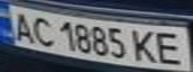1: (54, 18, 75, 52)
5: (106, 25, 130, 61)
8: (72, 20, 93, 55), (90, 24, 109, 57)
A: (6, 9, 39, 43)
C: (27, 14, 57, 47)
E: (151, 29, 190, 66)
K: (130, 27, 160, 64)
